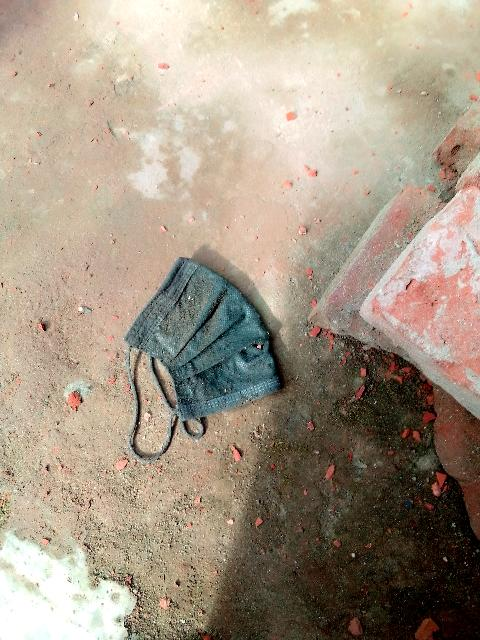mask: (134, 256, 296, 438)
